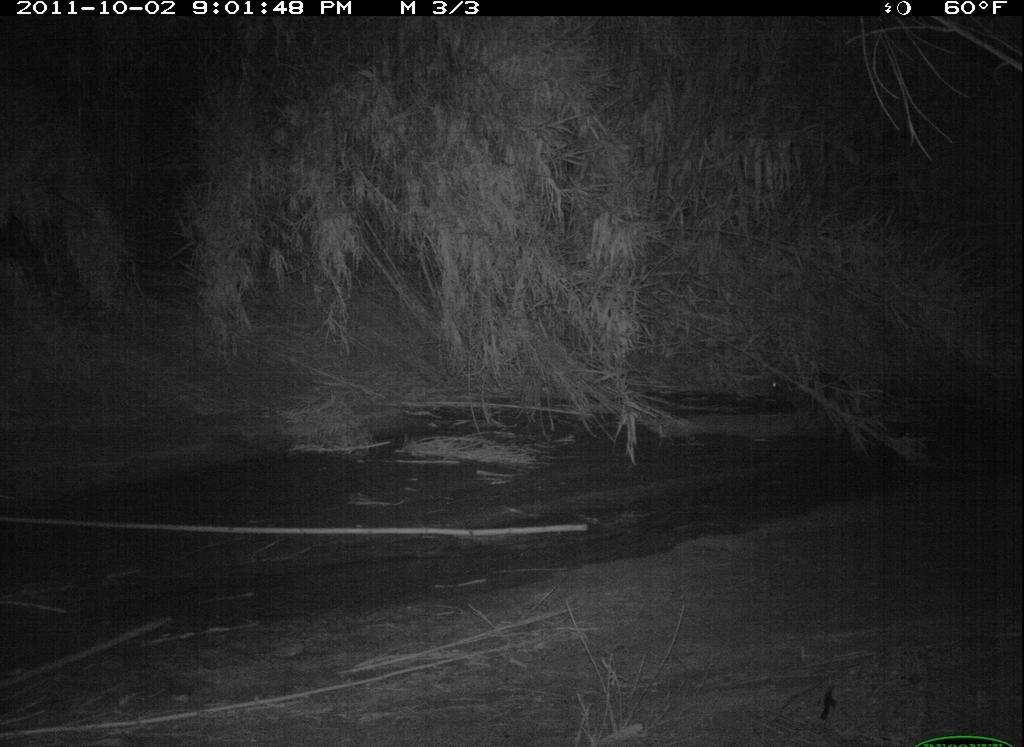raccoon: (760, 365, 882, 437)
